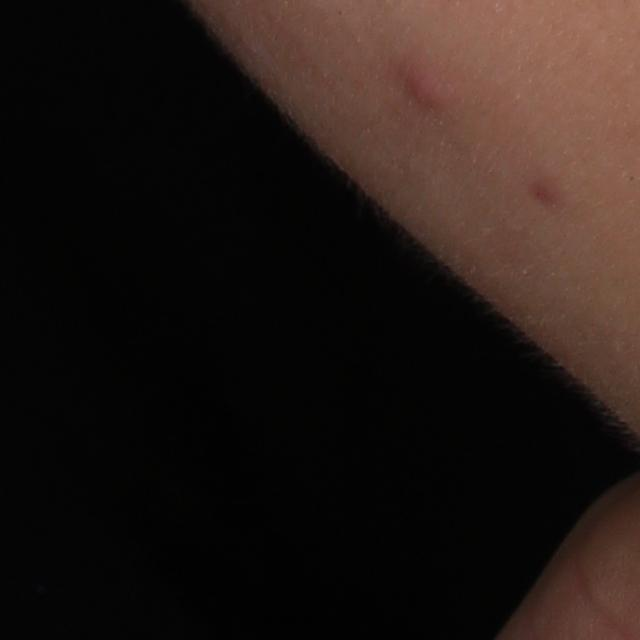papule: (403, 66, 452, 111)
